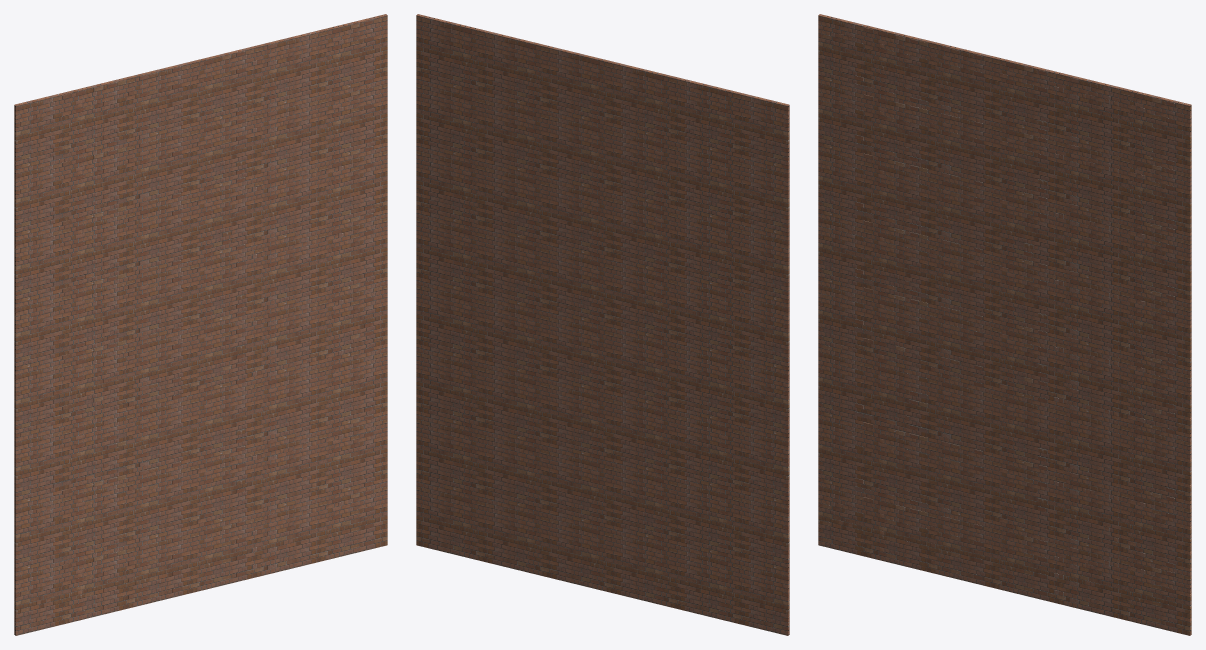
Rendered from Tutorial_Model_Structure_BS2Wall_5.fbx.
The picture shows the model from 3 angles, left to right: view 1: azimuth 30°, elevation 25°; view 2: azimuth 150°, elevation 25°; view 3: azimuth 330°, elevation 25°; orthographic projection.
Parts seen in each view (by area): view 1: Wall_8; view 2: Wall_8; view 3: Wall_8.
Boxes of the visible parts, x1,y1,x2,y2 form: Wall_8: [14, 14, 387, 635]; Wall_8: [416, 14, 789, 635]; Wall_8: [818, 14, 1191, 635].
Bounding box in the file's own units: 457 × 622 × 4.65.
1 material, 1 textured.
